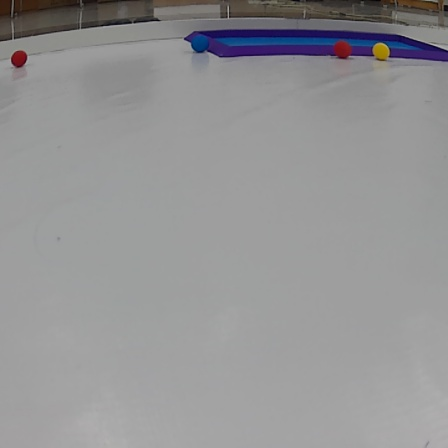blue: (189, 34, 210, 53)
blue_aim: (181, 29, 448, 62)
red: (333, 38, 355, 59), (9, 50, 29, 66)
yellow: (372, 42, 391, 62)
